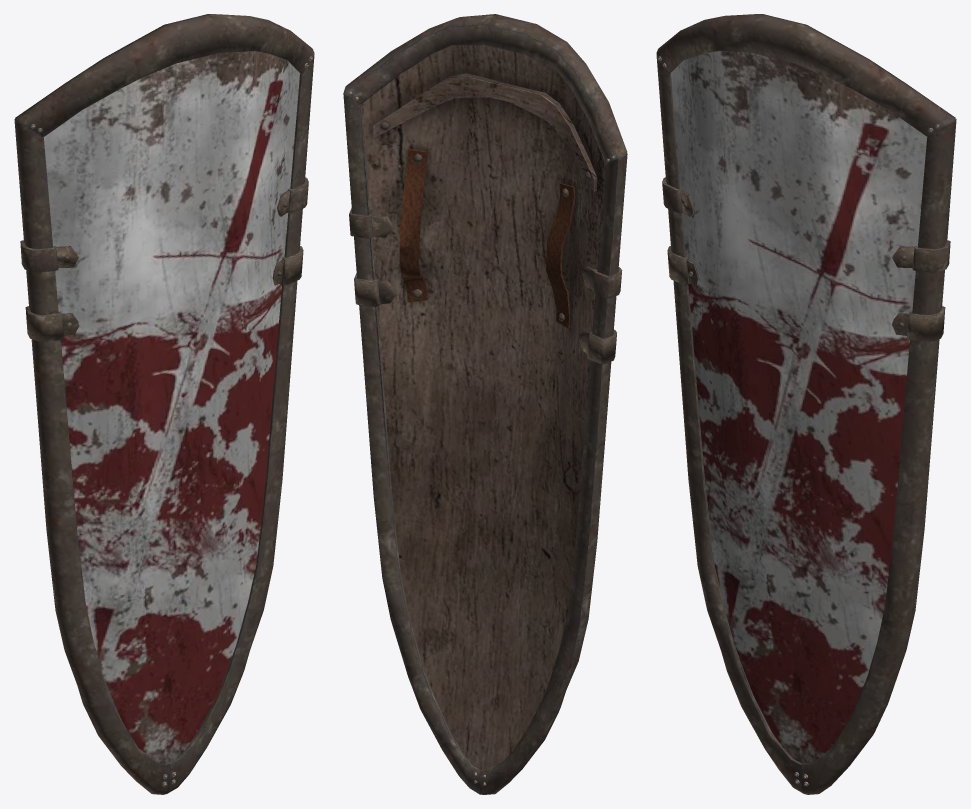
Rendered from kite_shield.glb.
3 views of the same model, side by side, from view 1: azimuth 30°, elevation 25°; view 2: azimuth 150°, elevation 25°; view 3: azimuth 330°, elevation 25° (orthographic). The views are drawn at different scales.
Visible parts, largest first — view 1: kite_shield_body, kite_shield_metal_trim; view 2: kite_shield_body, kite_shield_metal_trim; view 3: kite_shield_body, kite_shield_metal_trim.
Boxes of the visible parts, x1,y1,x2,y2 form: kite_shield_body: [43, 51, 299, 764]; kite_shield_metal_trim: [14, 14, 314, 794]; kite_shield_body: [361, 45, 606, 771]; kite_shield_metal_trim: [343, 14, 627, 794]; kite_shield_body: [670, 51, 927, 764]; kite_shield_metal_trim: [656, 14, 956, 794].
Size of the model in its own units: 0.5433 by 1.39 by 0.1347.
2 materials, 2 textured.
